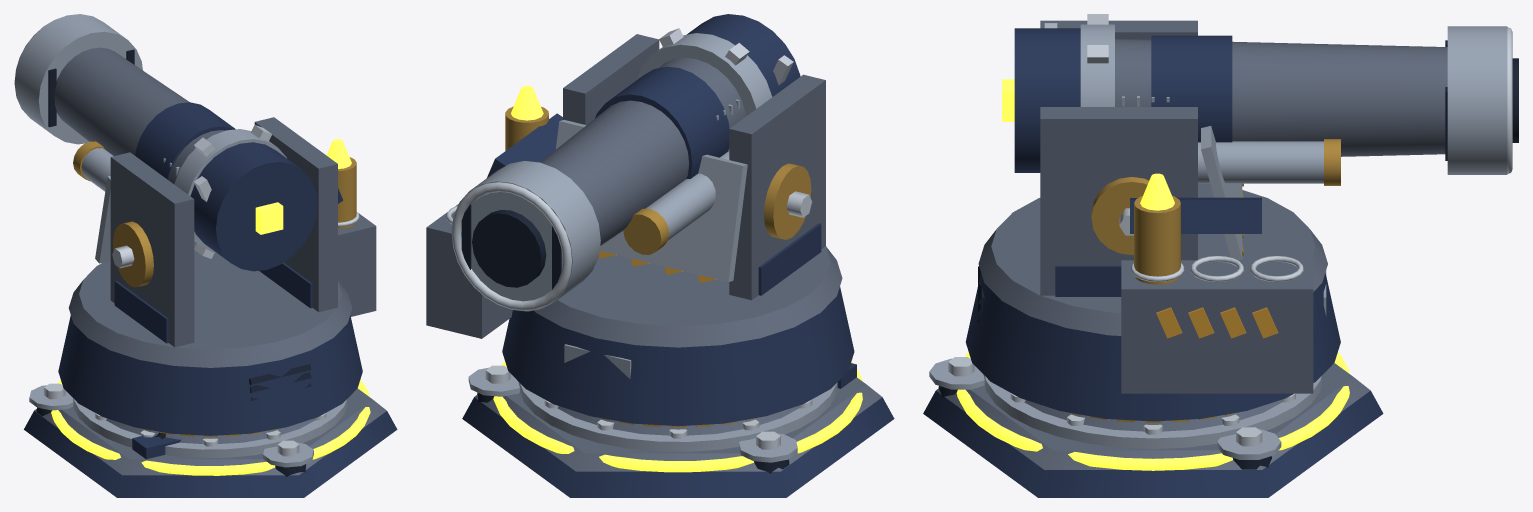
Rendered from tower_nova_chassis.glb.
The picture shows the model from 3 angles, left to right: view 1: azimuth 30°, elevation 25°; view 2: azimuth 150°, elevation 25°; view 3: azimuth 270°, elevation 25°; orthographic projection. The views are drawn at different scales.
Visible parts, largest first — view 1: nova_turret_drum, nova_turret_lip, nova_breech_block, nova_cradle_r, nova_barrel, nova_baseplate, nova_muzzle_brake, nova_cradle_l, nova_baseplate_bevel, nova_barrel_jacket, nova_flange, nova_hopper (+18 smaller); view 2: nova_turret_drum, nova_turret_lip, nova_barrel, nova_baseplate, nova_cradle_r, nova_muzzle_brake, nova_blast_shield, nova_baseplate_bevel, nova_barrel_jacket, nova_hopper, nova_flange, nova_bore (+19 smaller); view 3: nova_barrel, nova_hopper, nova_turret_drum, nova_cradle_l, nova_baseplate, nova_turret_lip, nova_muzzle_brake, nova_breech_block, nova_barrel_jacket, nova_baseplate_bevel, nova_flange, nova_recuperator_l (+18 smaller).
Boxes of the visible parts, x1,y1,x2,y2 form: nova_turret_drum: [58, 315, 362, 435]; nova_turret_lip: [68, 241, 352, 367]; nova_breech_block: [190, 142, 317, 271]; nova_cradle_r: [110, 152, 194, 347]; nova_barrel: [54, 47, 224, 183]; nova_baseplate: [24, 411, 397, 497]; nova_muzzle_brake: [14, 14, 142, 144]; nova_cradle_l: [254, 117, 337, 312]; nova_baseplate_bevel: [34, 388, 386, 475]; nova_barrel_jacket: [135, 102, 235, 180]; nova_flange: [73, 398, 348, 458]; nova_hopper: [338, 213, 376, 316]; nova_turret_drum: [502, 287, 854, 426]; nova_turret_lip: [534, 246, 842, 347]; nova_barrel: [540, 57, 745, 245]; nova_baseplate: [462, 397, 894, 497]; nova_cradle_r: [729, 74, 825, 300]; nova_muzzle_brake: [451, 161, 600, 311]; nova_blast_shield: [555, 120, 747, 281]; nova_baseplate_bevel: [474, 377, 881, 471]; nova_barrel_jacket: [595, 66, 729, 178]; nova_hopper: [426, 204, 512, 338]; nova_flange: [518, 382, 837, 451]; nova_bore: [472, 210, 546, 287]; nova_barrel: [1115, 39, 1447, 156]; nova_hopper: [1121, 260, 1313, 393]; nova_turret_drum: [965, 272, 1340, 421]; nova_cradle_l: [1040, 107, 1197, 295]; nova_baseplate: [923, 390, 1383, 497]; nova_turret_lip: [978, 183, 1327, 335]; nova_muzzle_brake: [1447, 26, 1507, 174]; nova_breech_block: [1014, 28, 1080, 172]; nova_barrel_jacket: [1151, 35, 1232, 142]; nova_baseplate_bevel: [936, 363, 1370, 469]; nova_flange: [983, 374, 1323, 448]; nova_recuperator_l: [1198, 141, 1323, 183].
Bounding box in the file's own units: 1.97 × 1.99 × 2.8.
